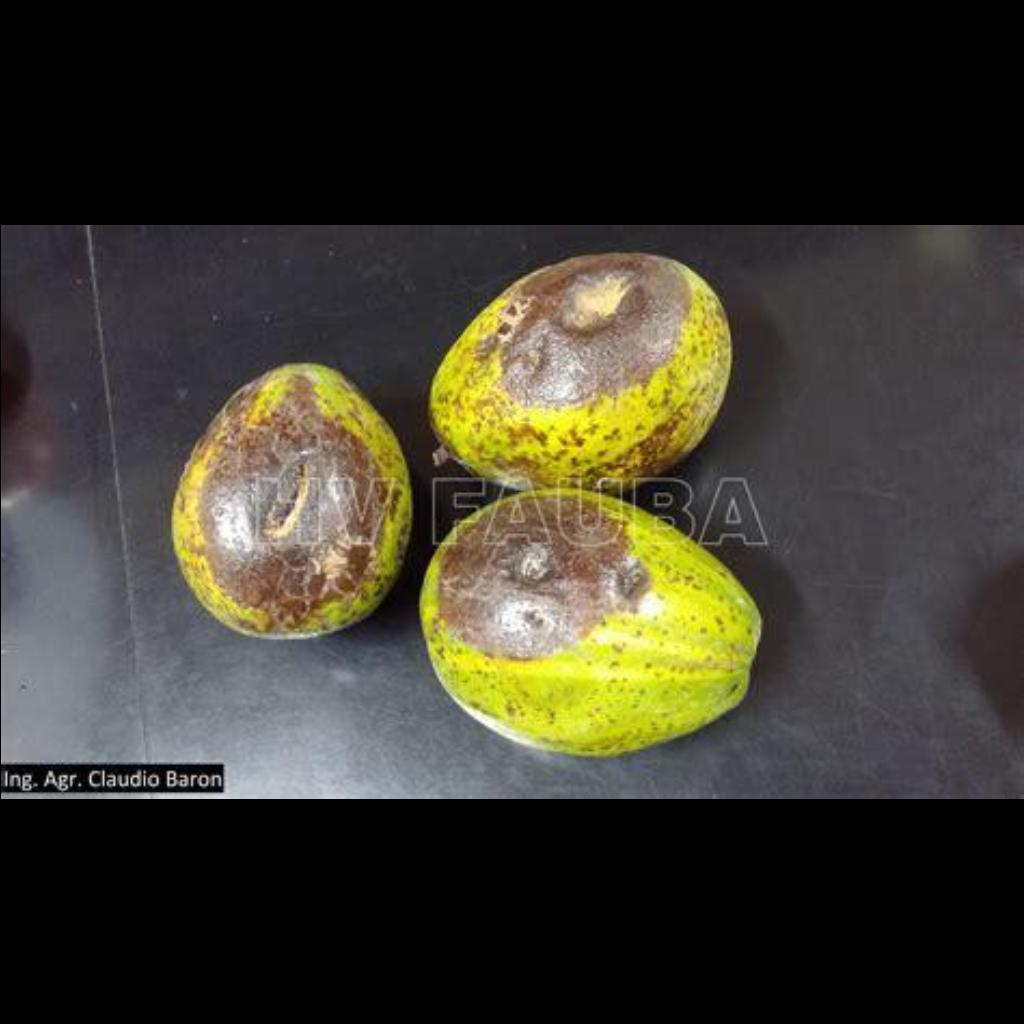Anthracnose: (419, 252, 767, 744), (148, 351, 408, 649)
